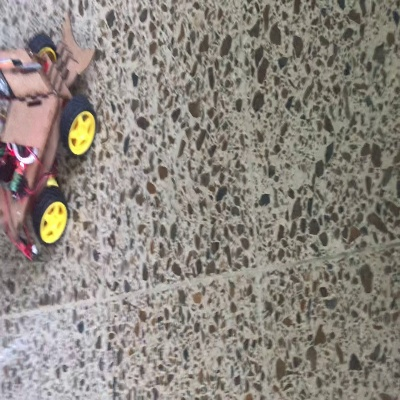Robot: (0, 19, 96, 245)
